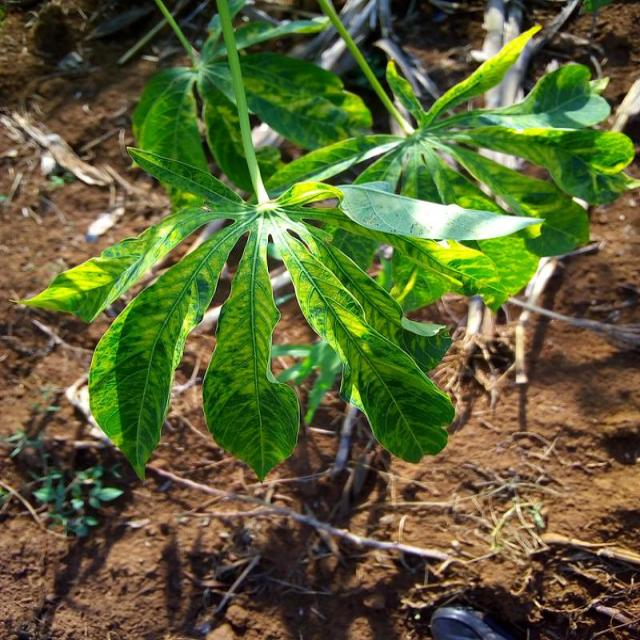cassava leaf: (14, 2, 636, 483), (86, 211, 253, 481), (201, 217, 300, 481)
